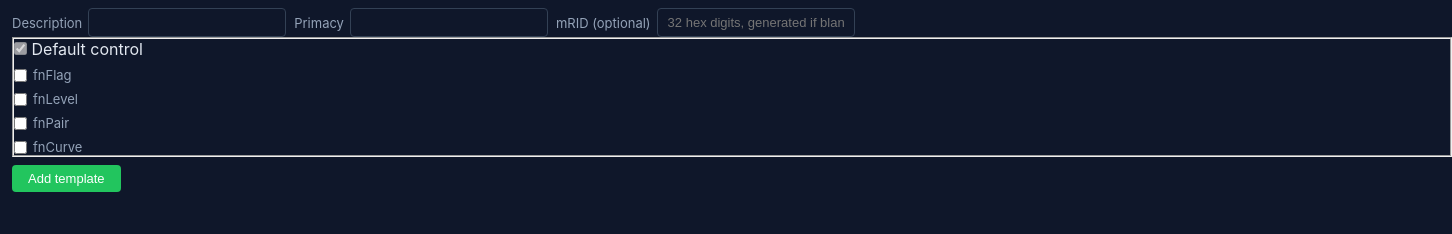
DerProgramForm create › moves focus to the error when one appears, validation or refusal
Click the button "Add template".
click(66, 178)  # box [12,165,121,192]
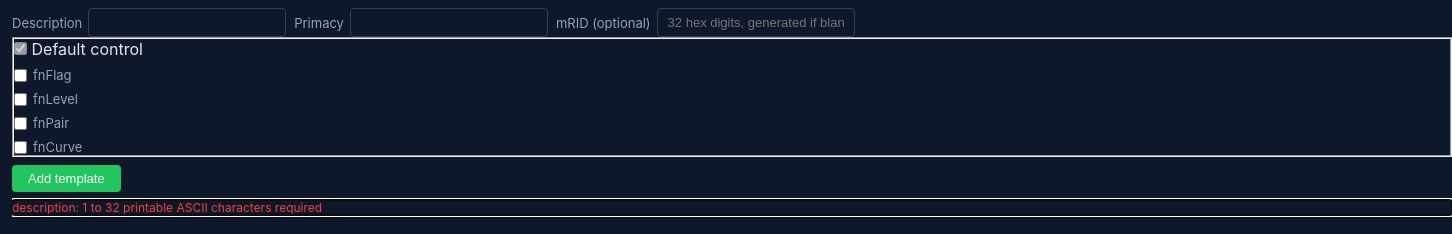
expect the message shows "description": met, box [12,200,322,215]
Type "d" into the field labelled "Description".
click(187, 22); type("d")  # box [88,8,286,37]
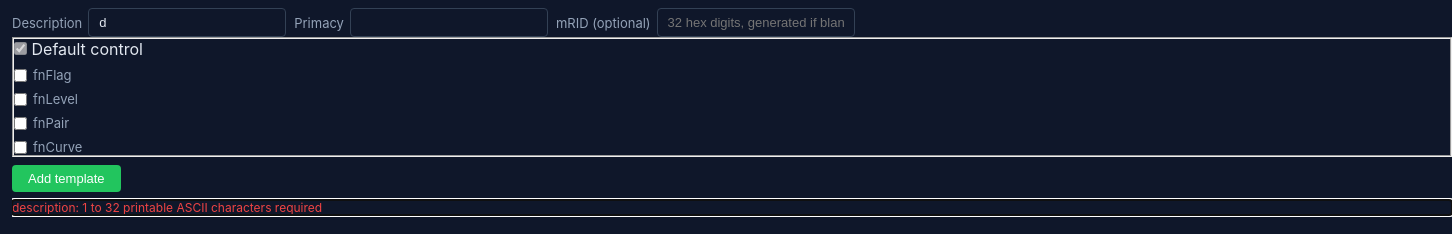
Type "1" into the field labelled "Primacy".
click(449, 22); type("1")  # box [350,8,548,37]
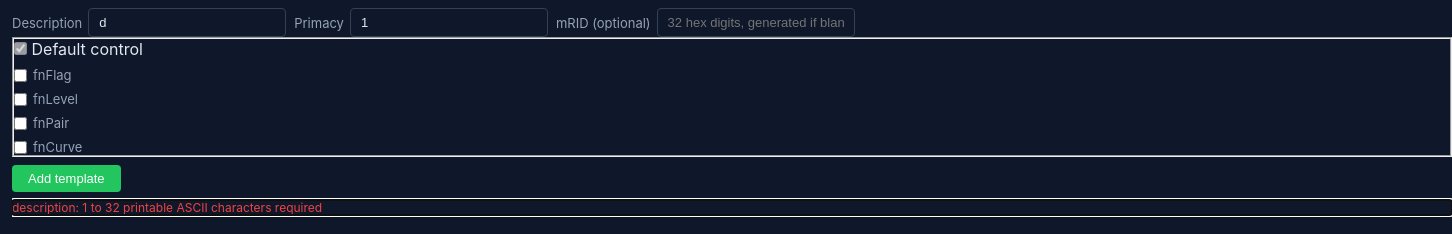
Click the checkbox with test id "control-fn-fnFlag".
click(20, 75)  # box [14,68,27,82]
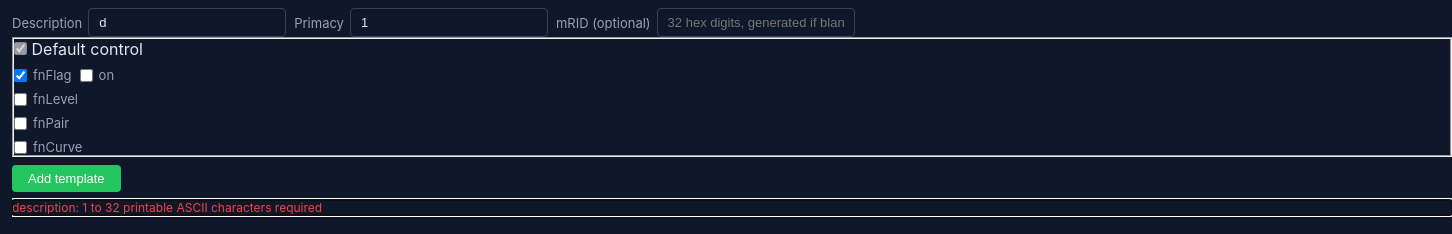
Click the button "Add template".
click(66, 178)  # box [12,165,121,192]
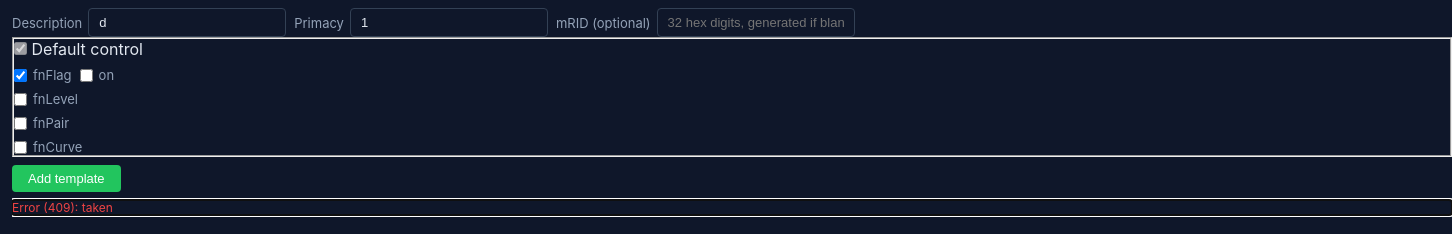
expect the message reads "Error (409): taken": met, box [12,200,113,215]
